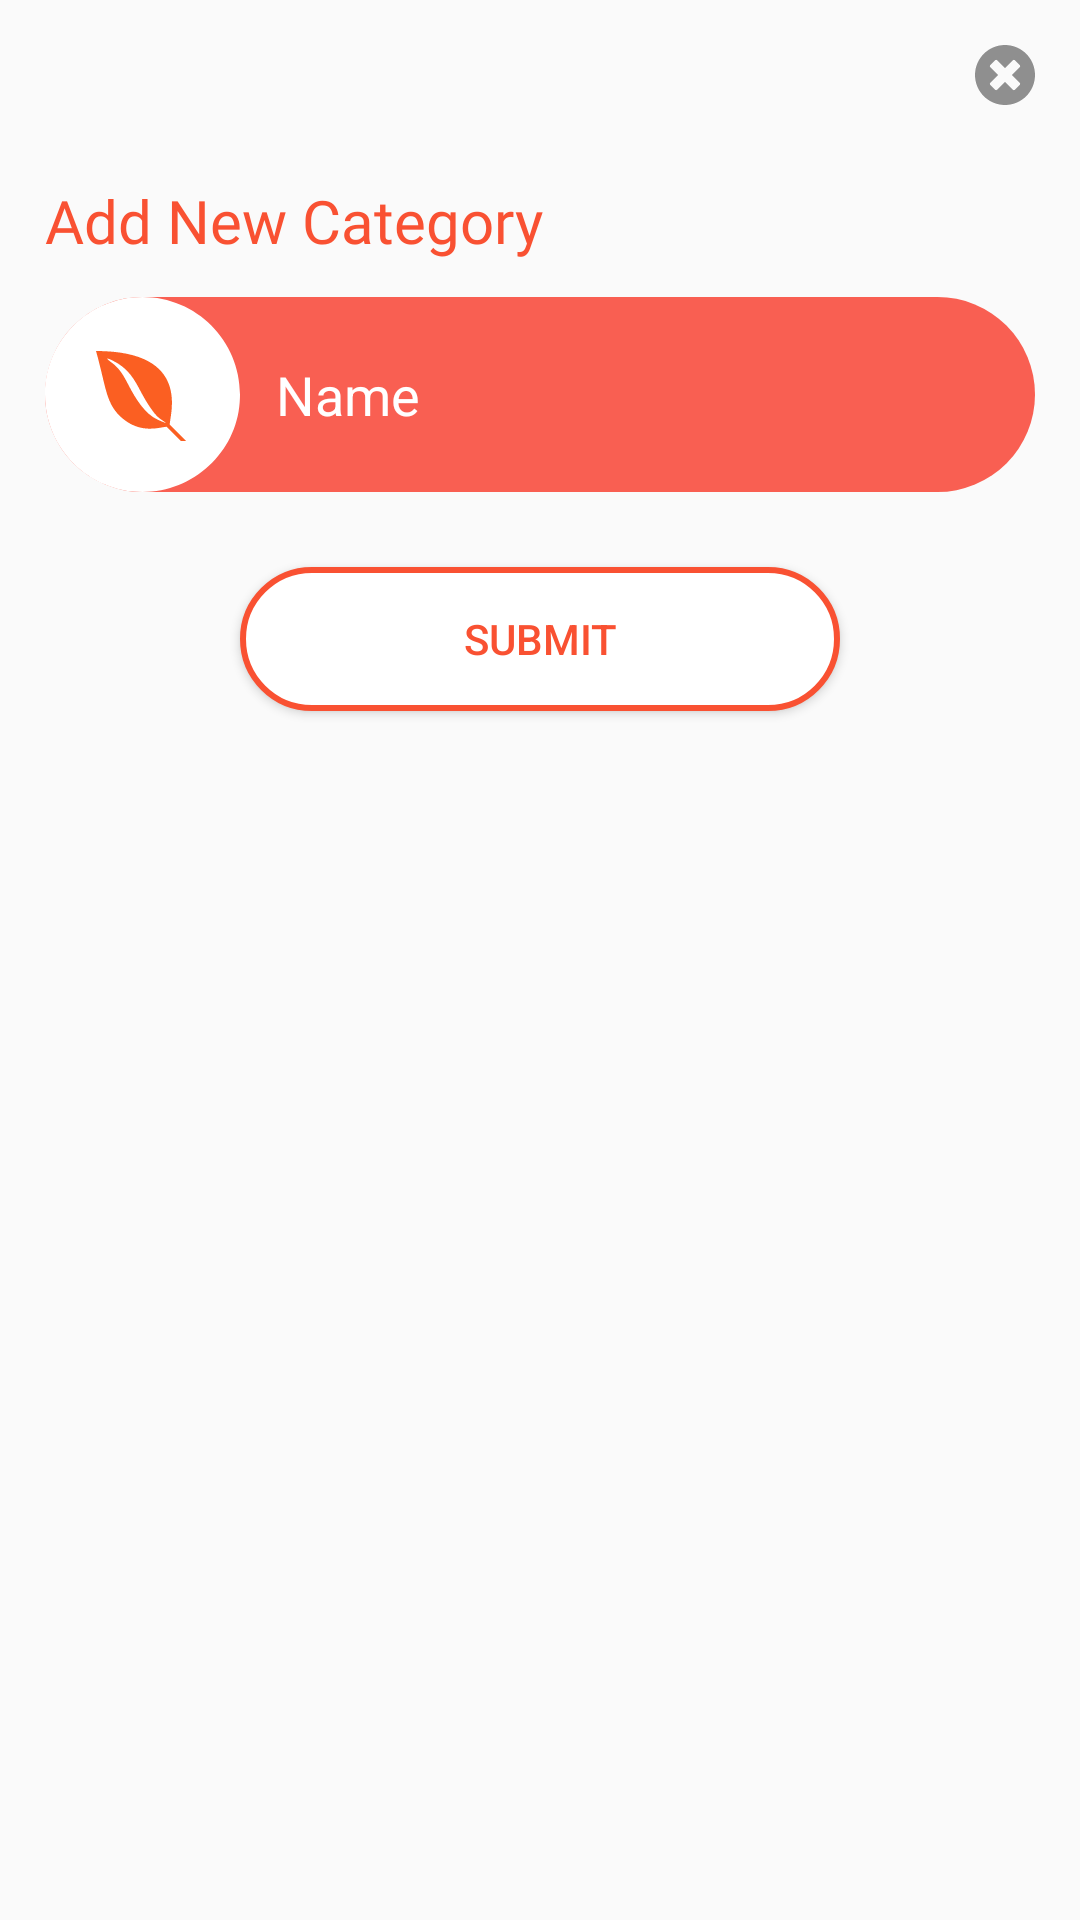

Named icons in this screenshot (1080 × 1920) and their bounding boxes, (x1, y1, x2, y2):
cancel: (975, 45, 1035, 105)
